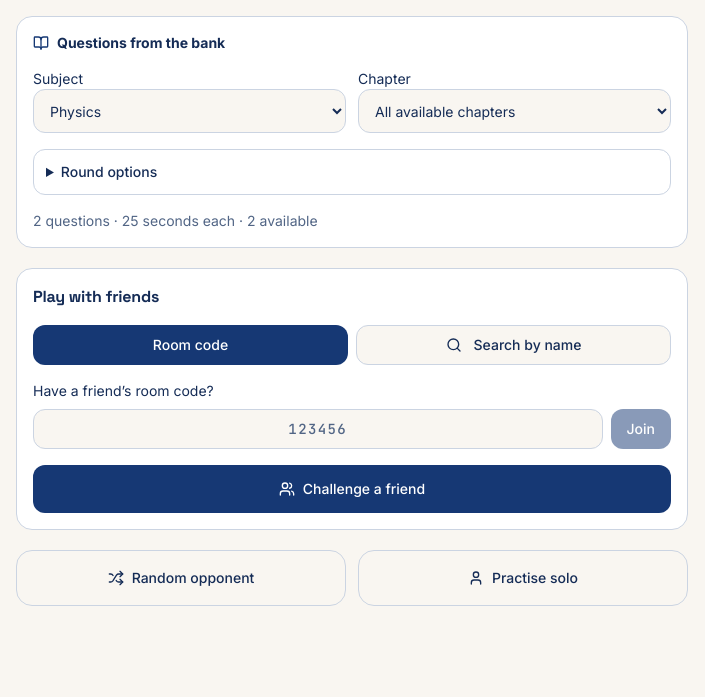
Test case: keeps a no-opponent outcome actionable and clears the queue
(page scrolled)
Click the button "Random opponent".
click(181, 578)  # box [16,550,346,606]
Wait 60000 ms
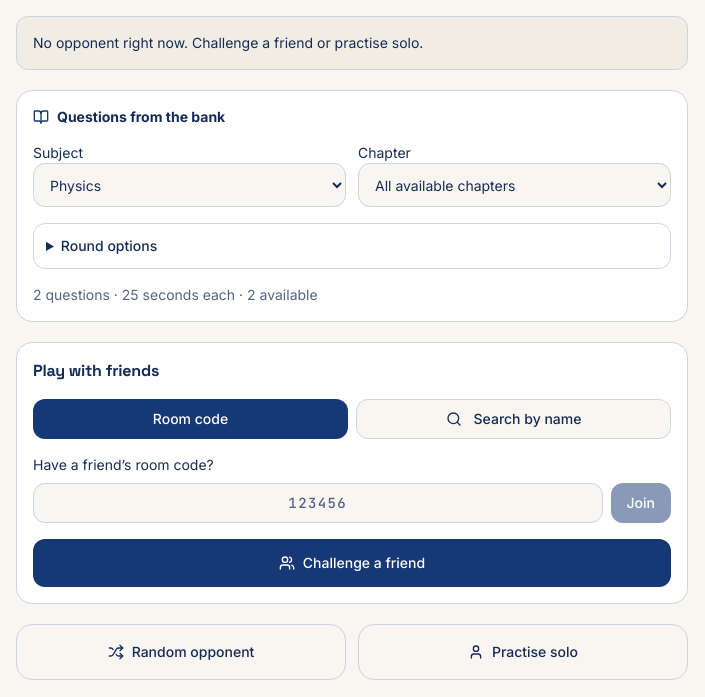
Check: the button "Challenge a friend" is enabled, box [33,539,671,587]
Check: the message shows "No opponent right now", box [33,34,423,51]
